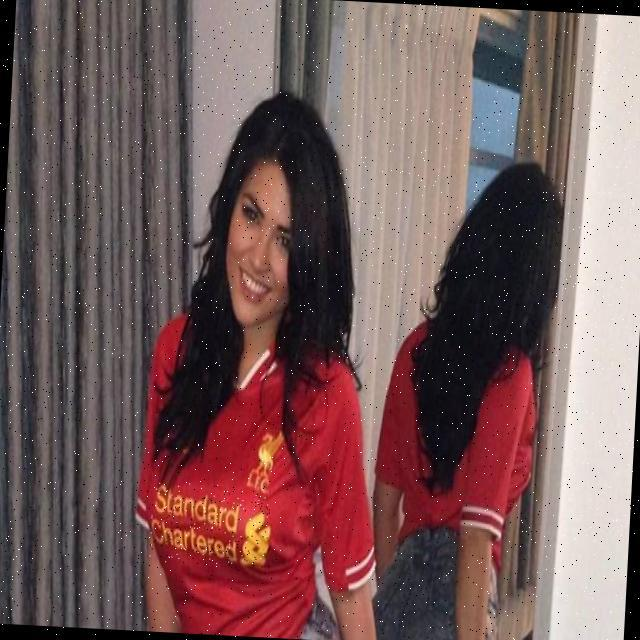Standard Chartered: (149, 481, 273, 568)
